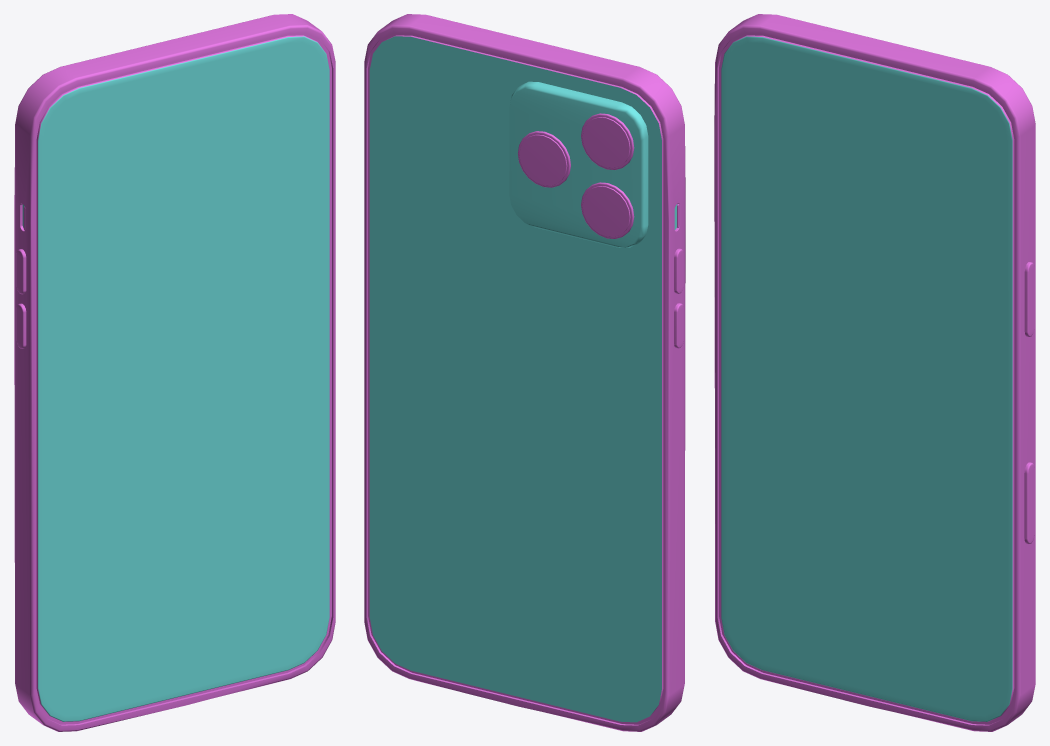
Rendered from SM_Iphone13_low.fbx.
The picture shows the model from 3 angles, left to right: view 1: azimuth 30°, elevation 25°; view 2: azimuth 150°, elevation 25°; view 3: azimuth 330°, elevation 25°; orthographic projection.
Visible parts, largest first — view 1: Iphone_Body_low, Buttons_low; view 2: Iphone_Body_low, Lens_Base_low, Lens_low, Buttons_low; view 3: Iphone_Body_low, Buttons_low.
Boxes of the visible parts, left/top/right/bottom form: Iphone_Body_low: left=14, top=14, right=335, bottom=731; Buttons_low: left=16, top=206, right=26, bottom=348; Iphone_Body_low: left=364, top=14, right=685, bottom=731; Lens_Base_low: left=509, top=81, right=648, bottom=247; Lens_low: left=517, top=113, right=634, bottom=238; Buttons_low: left=674, top=204, right=683, bottom=348; Iphone_Body_low: left=714, top=14, right=1035, bottom=731; Buttons_low: left=1024, top=262, right=1034, bottom=544.
Bounding box in the file's own units: 9.51 × 19.03 × 1.31.
